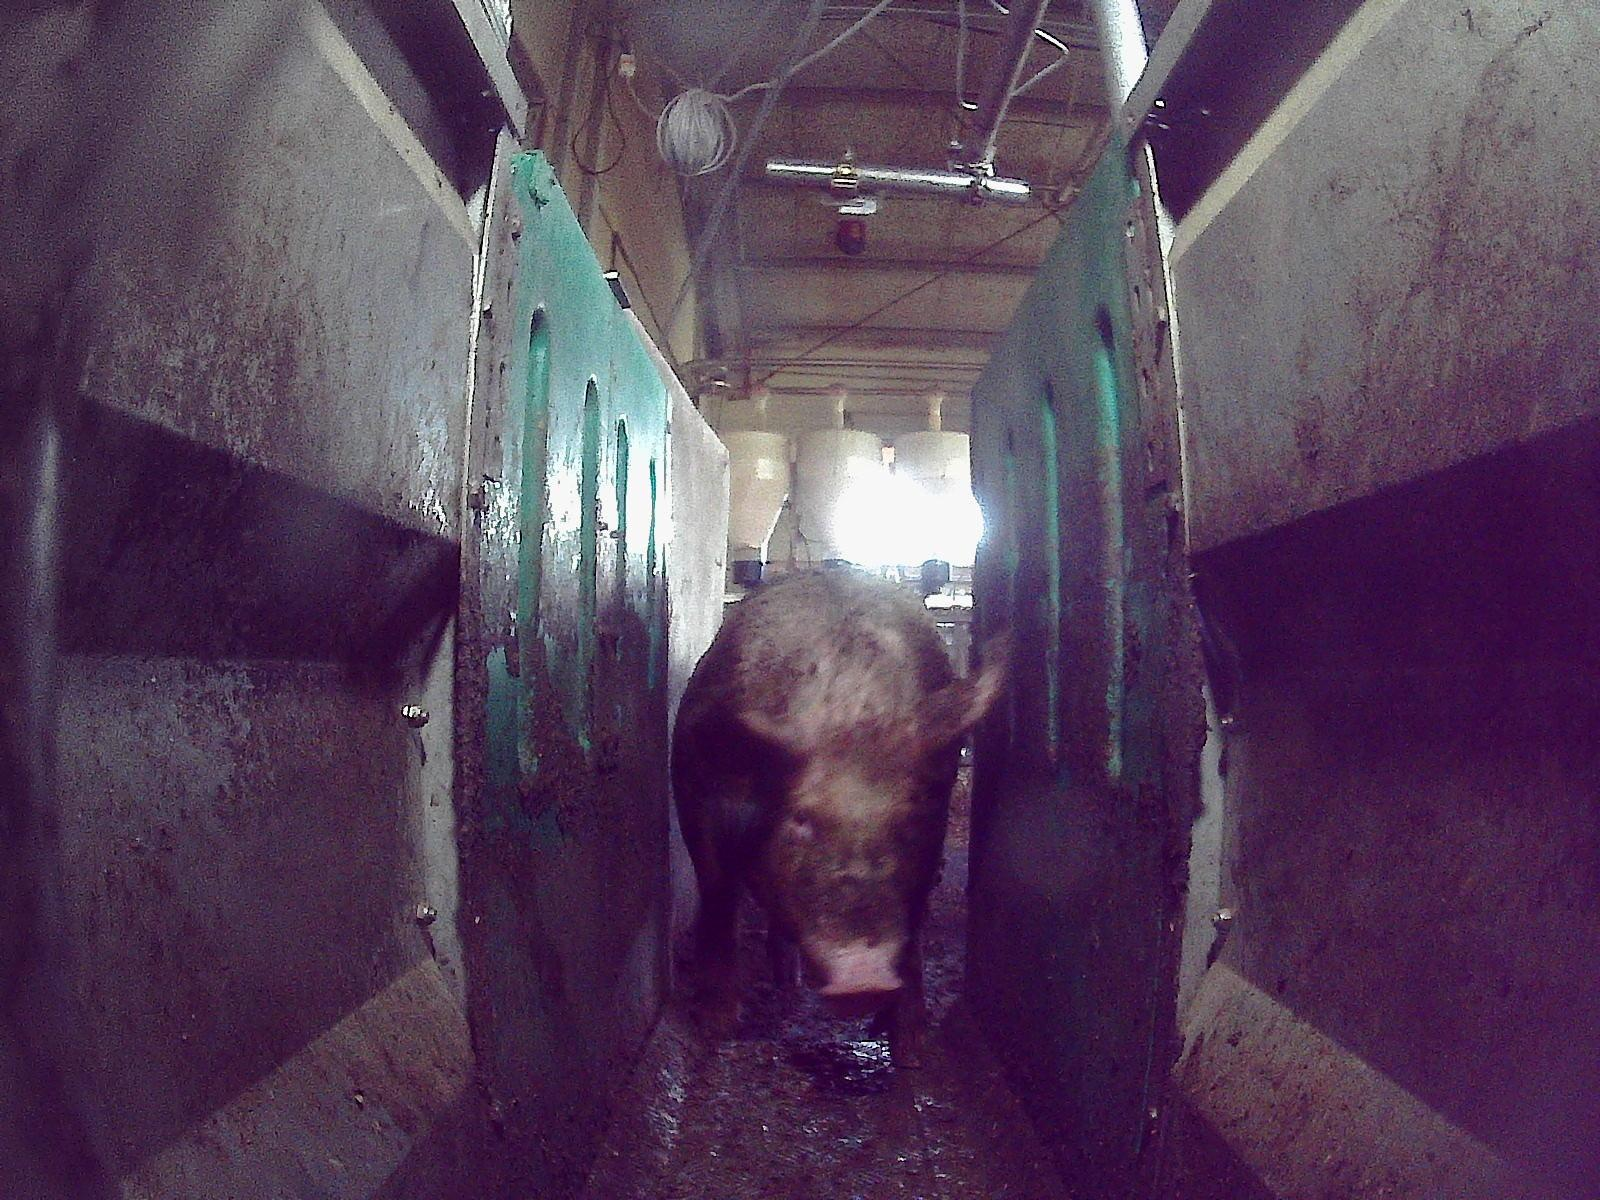Face: (771, 735, 932, 1009)
